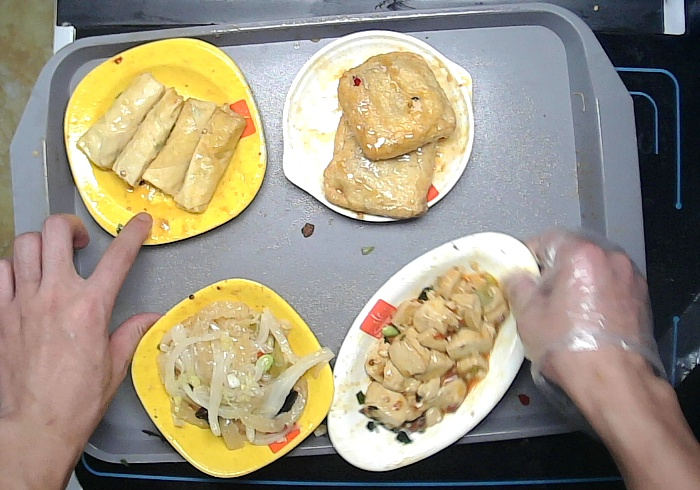SHKJ-Bao_Yu_Pan: (280, 27, 478, 228)
SHKJ-Huang_Se_Cai_Die: (127, 277, 336, 479)
SHKJ-Huang_Se_Si_Fang_Cai_Die: (62, 35, 269, 249)
SHKJ-Yu_Pan: (322, 232, 543, 472)
